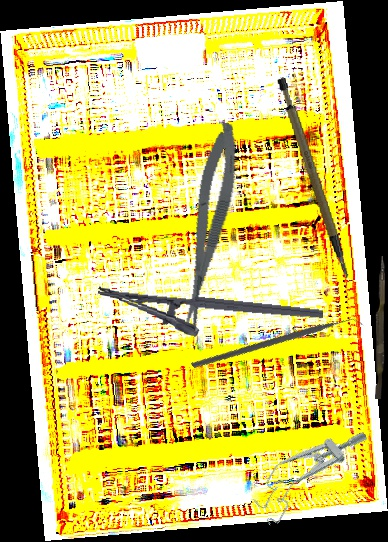Chopper: (190, 256, 367, 436)
Micro Scissor: (168, 120, 248, 337)
Needle Holder: (94, 284, 324, 351)
Pusher: (375, 256, 385, 399)
Scalpel Handle: (274, 71, 351, 287)
Speculum: (243, 409, 374, 529)
